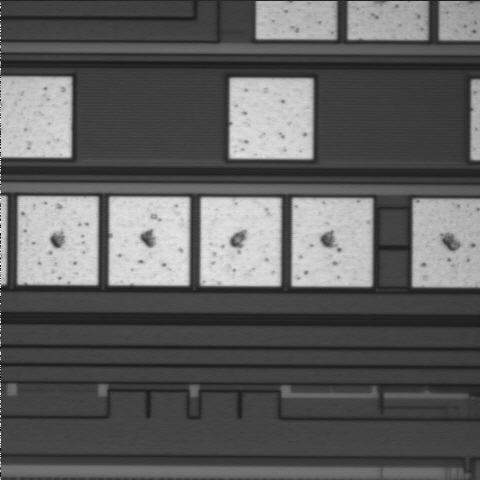pad: (18, 197, 98, 285), (109, 197, 189, 285), (201, 198, 281, 286), (292, 198, 372, 286), (230, 78, 312, 159)
